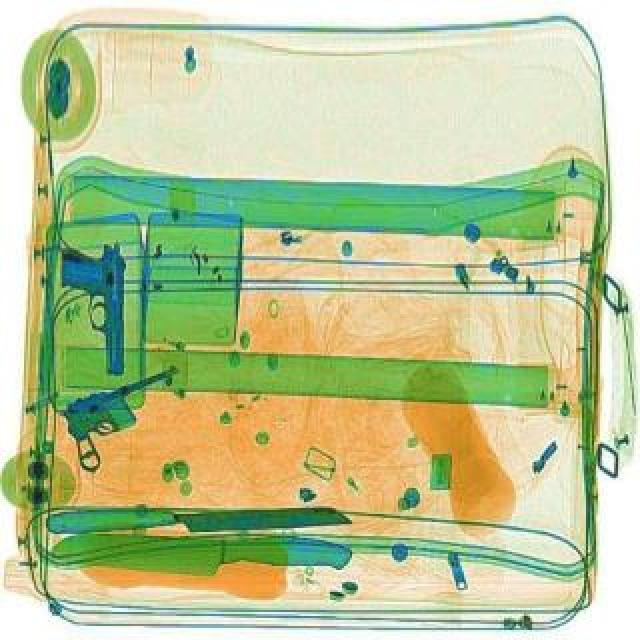gun: (52, 358, 208, 472), (58, 238, 124, 374)
knife: (46, 526, 354, 572), (42, 494, 358, 536)
